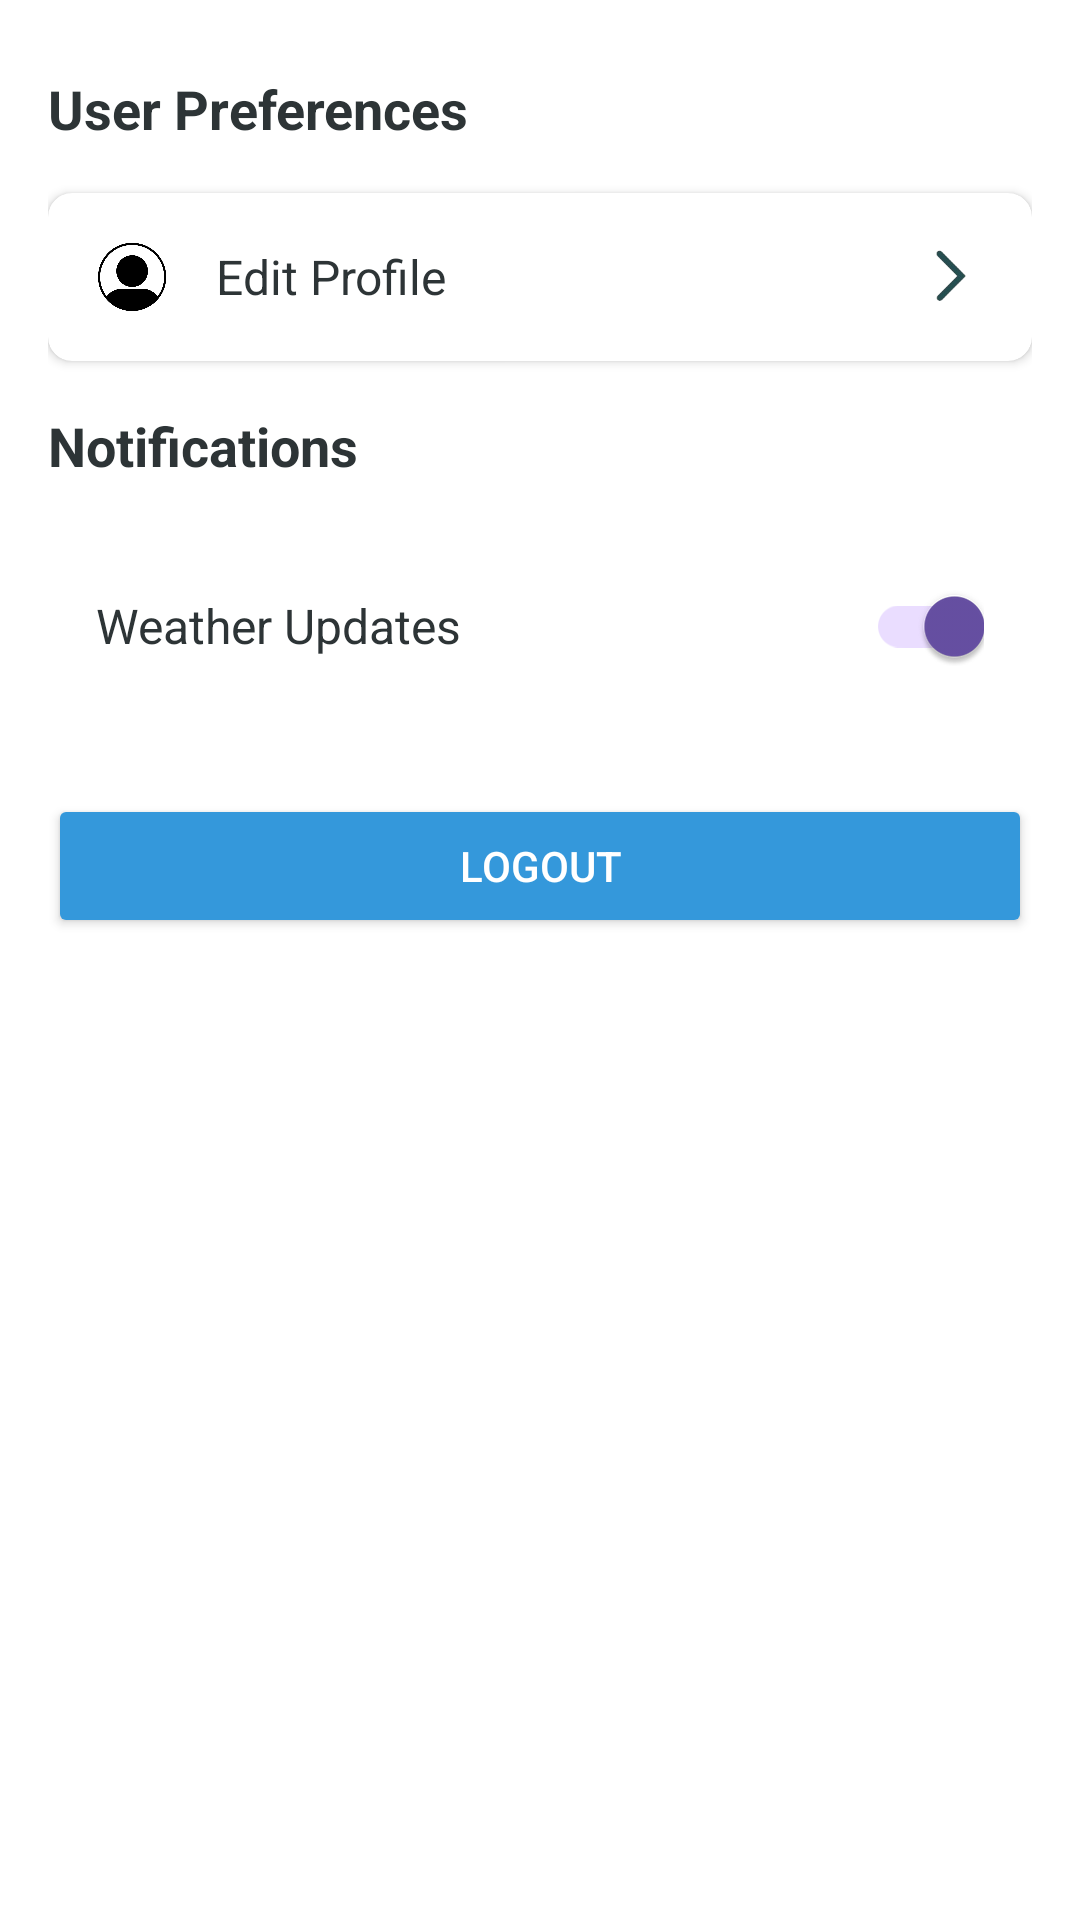

Named icons in this screenshot (1080x1920) and their centers, (x=x, y=y):
Arrow Icon: (x=951, y=275)
